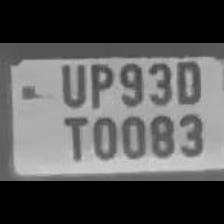0: (88, 110, 118, 160), (119, 110, 146, 160)
3: (173, 110, 205, 156), (144, 57, 174, 104)
8: (148, 110, 174, 158)
9: (114, 58, 146, 108)
D: (172, 57, 202, 103)
P: (85, 58, 115, 110)
T: (56, 113, 89, 162)
U: (55, 58, 87, 108)
